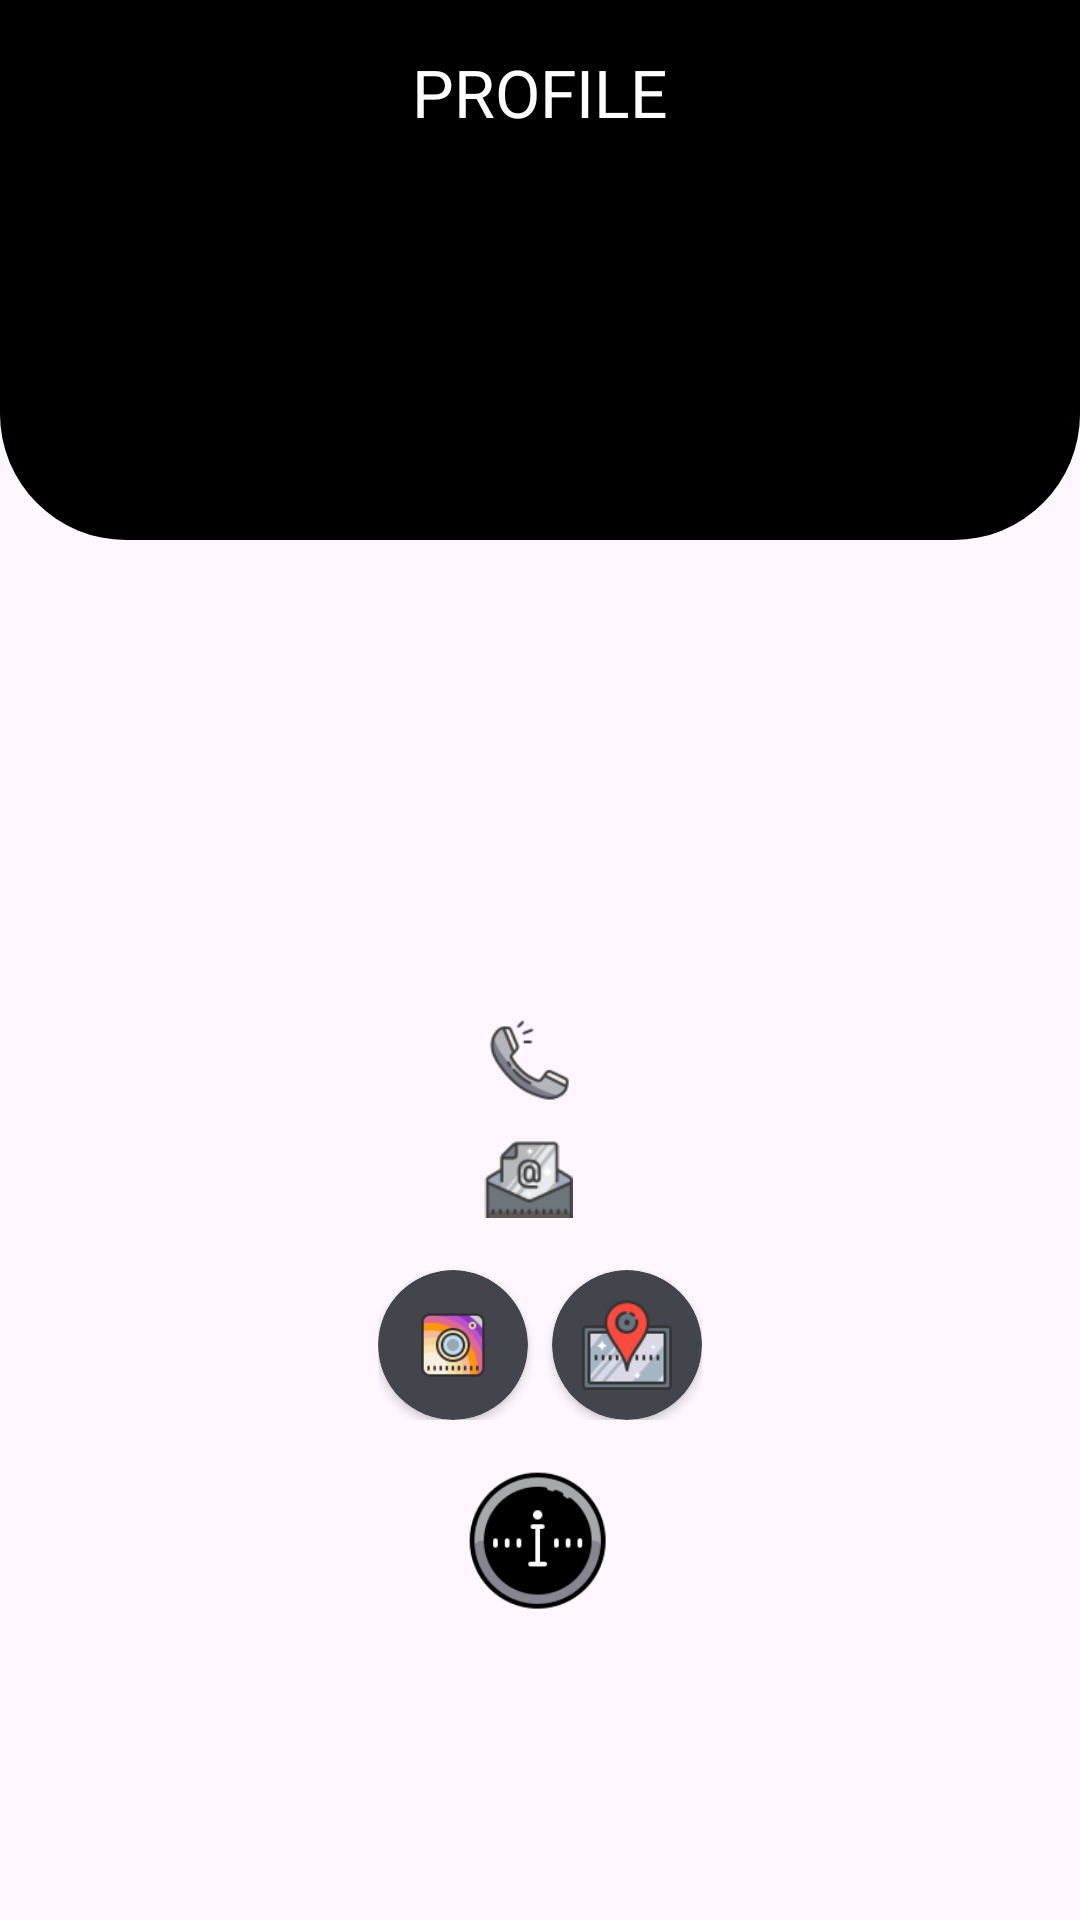

Screen size 1080px x 1920px. Icon name, then its box in pixels as box=[x1, y1, x2, y2]:
about: box=[469, 1472, 606, 1609]
email: box=[485, 1141, 573, 1218]
map: box=[552, 1270, 702, 1420]
phone: box=[490, 1020, 569, 1100]
